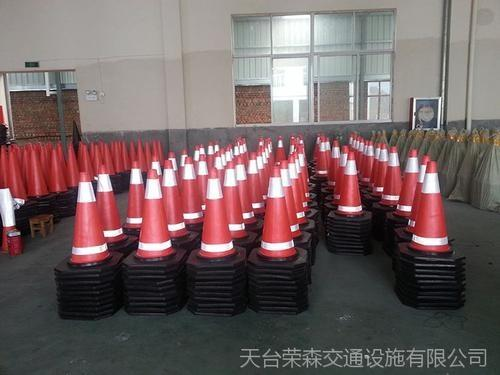cone_barrel: (406, 158, 456, 255), (62, 171, 112, 268), (253, 162, 298, 265), (131, 163, 175, 263), (193, 170, 237, 263), (331, 149, 365, 220), (95, 168, 123, 245), (160, 159, 188, 235), (394, 147, 421, 218), (221, 161, 245, 233), (179, 155, 204, 223), (123, 159, 144, 227), (381, 142, 402, 206), (313, 135, 328, 175), (273, 135, 285, 165), (329, 136, 339, 170)
